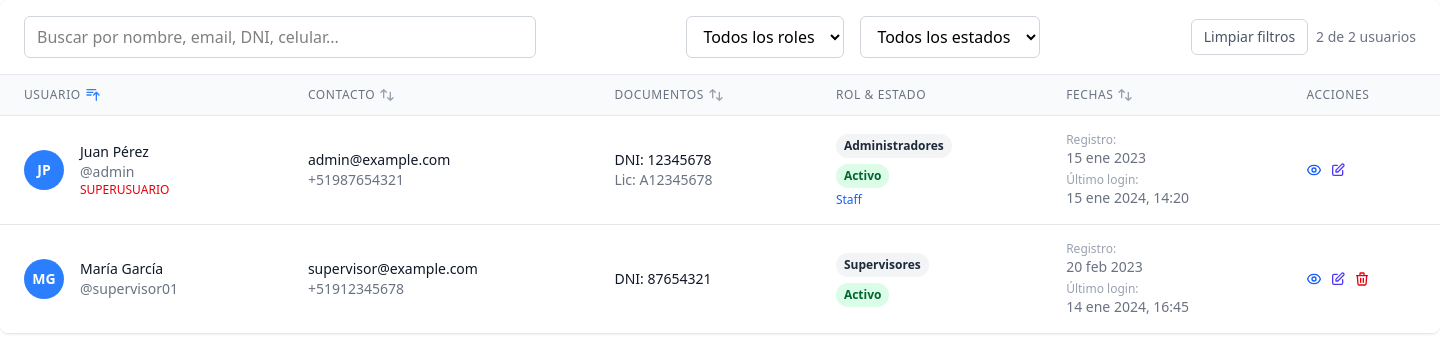
Test: UserTable › Filtering › should clear all filters
The image size is (1440, 351).
Type "Juan" into the field with placeholder "Buscar por nombre, email, DNI, celular..." at [280, 37], box [24,16,536,58]
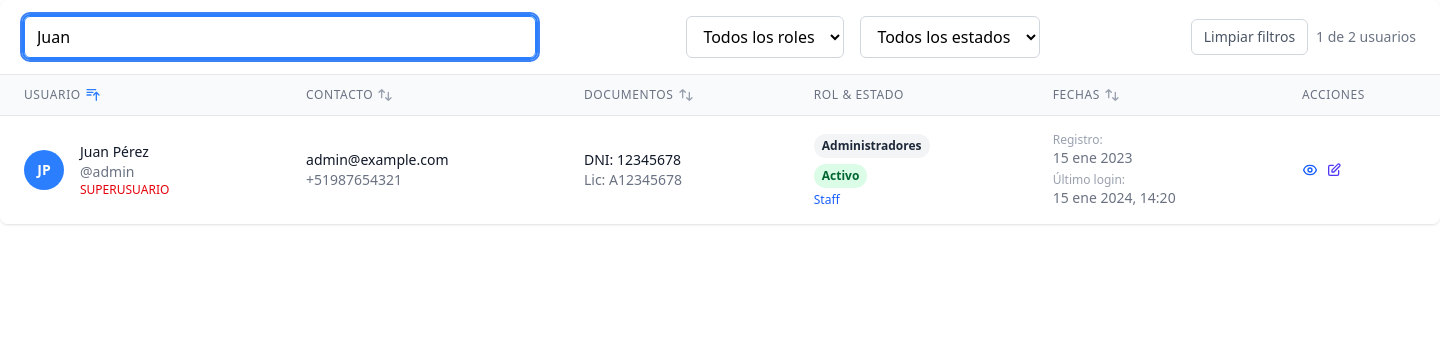
Click the button "Limpiar filtros" at [1249, 37], box [1191,19,1308,55]
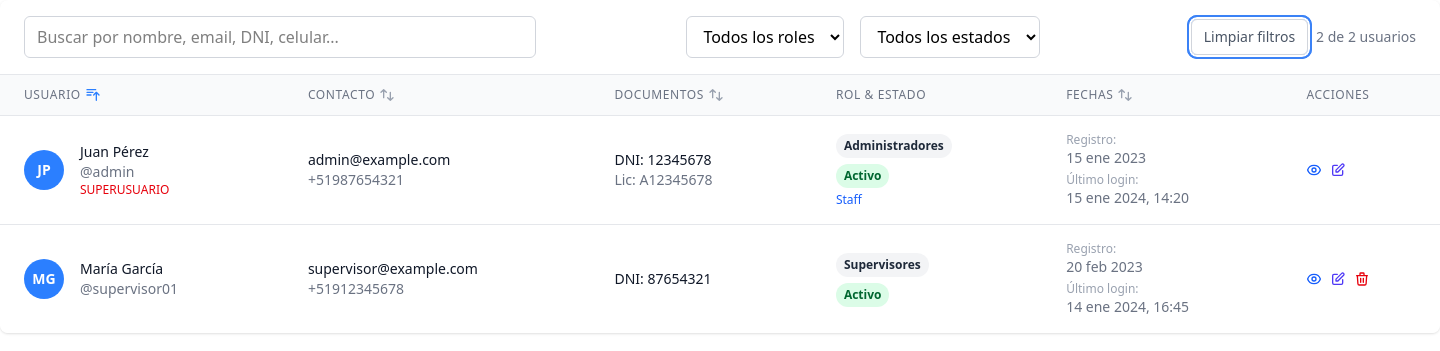
Expected: the text "Juan Pérez" is shown, [80,142,149,161]
Now the text "María García" is shown, box [80,259,163,278]
